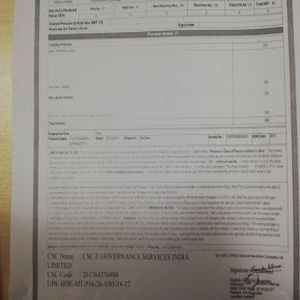table: (49, 25, 286, 127)
text: (44, 249, 194, 291)
